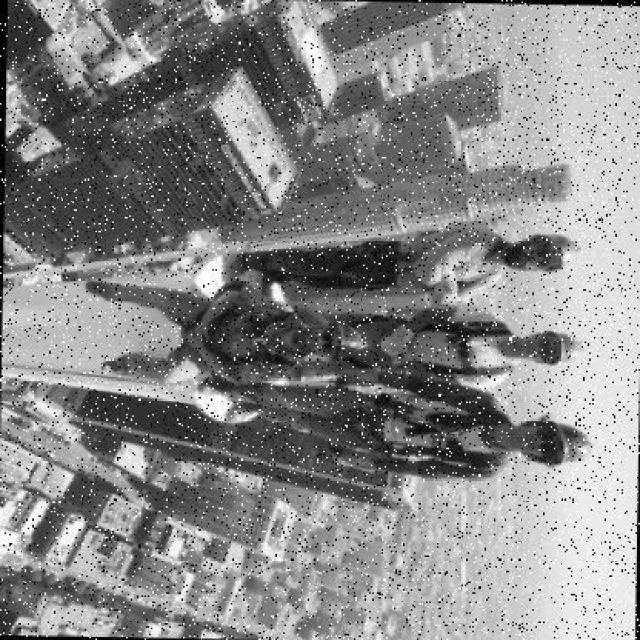Arnes_seguridad: (354, 224, 510, 304), (366, 390, 514, 466), (383, 318, 516, 378), (212, 302, 300, 370)
